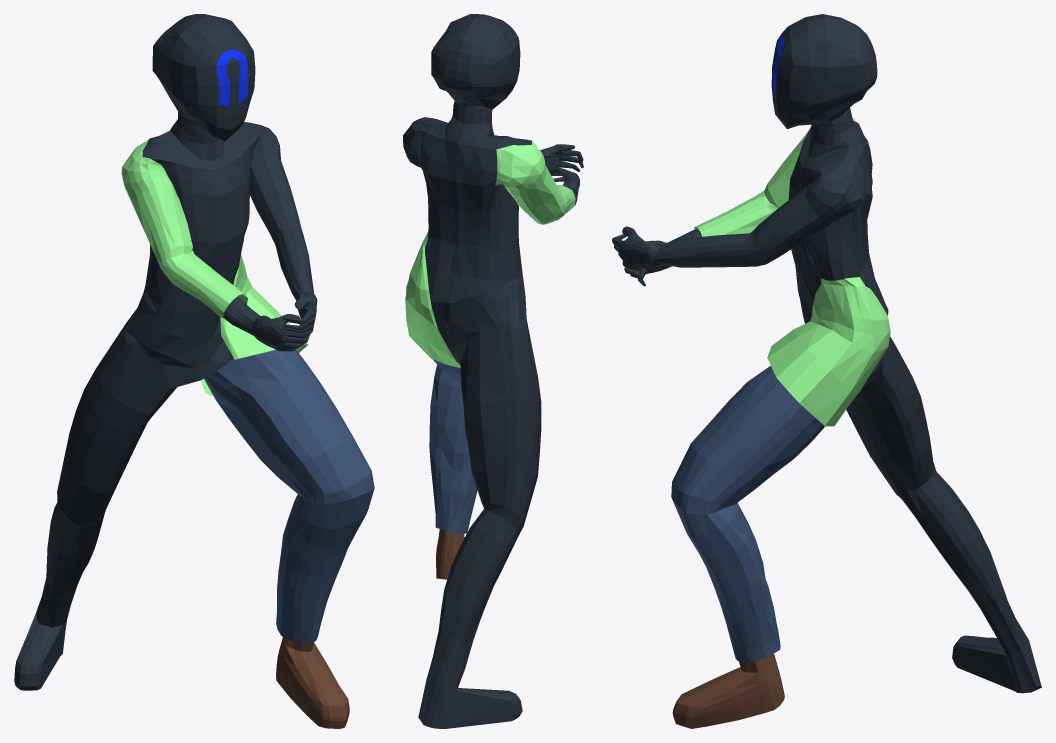
File: Mar_WL_000007.obj
3 views of the same model, side by side, from view 1: azimuth 30°, elevation 25°; view 2: azimuth 150°, elevation 25°; view 3: azimuth 270°, elevation 25° (orthographic). The views are drawn at different scales.
Visible parts, largest first — view 1: Cube.000_Cube.001; view 2: Cube.000_Cube.001; view 3: Cube.000_Cube.001.
Part boxes in pixels (left/top/right/bottom): Cube.000_Cube.001: left=14, top=14, right=374, bottom=728; Cube.000_Cube.001: left=403, top=14, right=583, bottom=728; Cube.000_Cube.001: left=612, top=14, right=1041, bottom=728.
Bounding box in the file's own units: 1.23 × 3.71 × 2.07.
